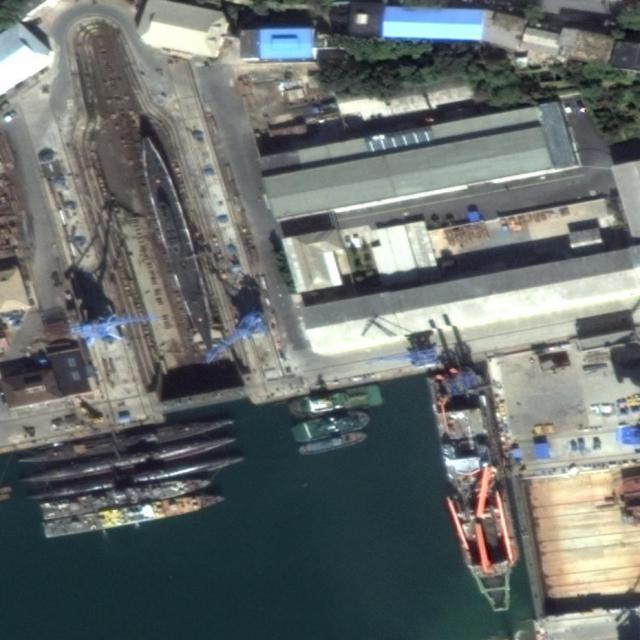Cargo: (427, 367, 524, 573)
Other Ship: (295, 429, 370, 458)
Other Warship: (43, 488, 227, 540), (41, 471, 215, 522), (286, 381, 385, 425), (291, 407, 372, 443)
Submarine: (15, 431, 239, 491), (23, 449, 247, 505), (16, 415, 237, 467)
